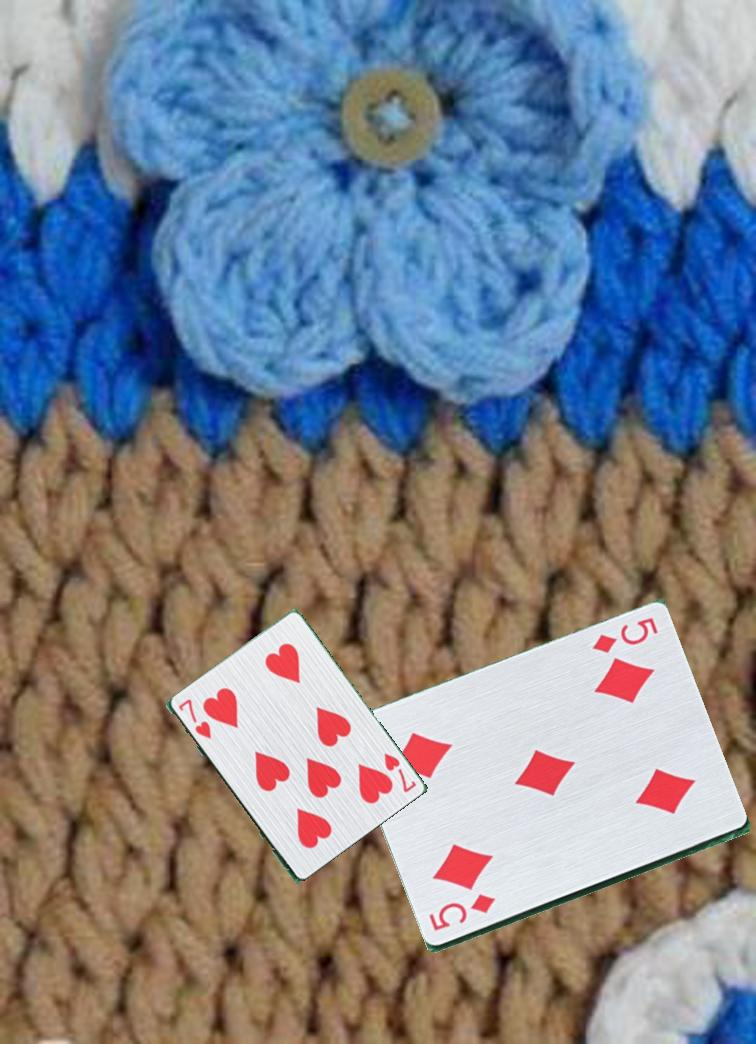5d: (588, 614, 661, 657), (425, 893, 498, 935)
7h: (371, 749, 419, 800), (173, 695, 214, 742)
